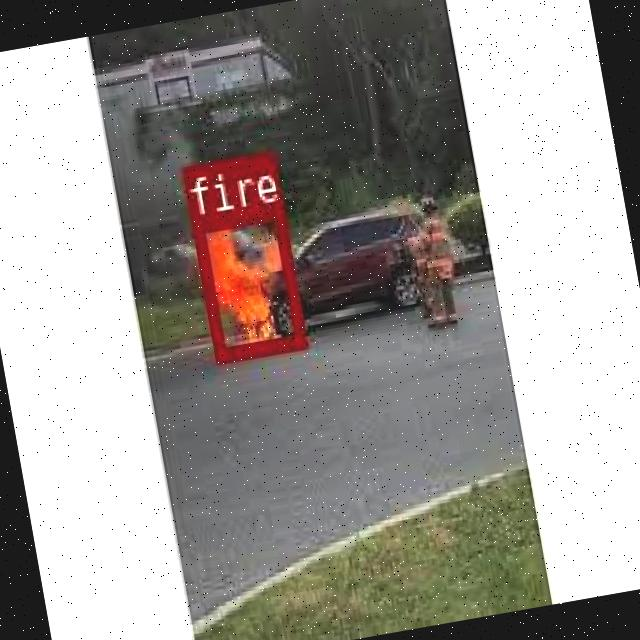fire: (188, 200, 305, 362)
